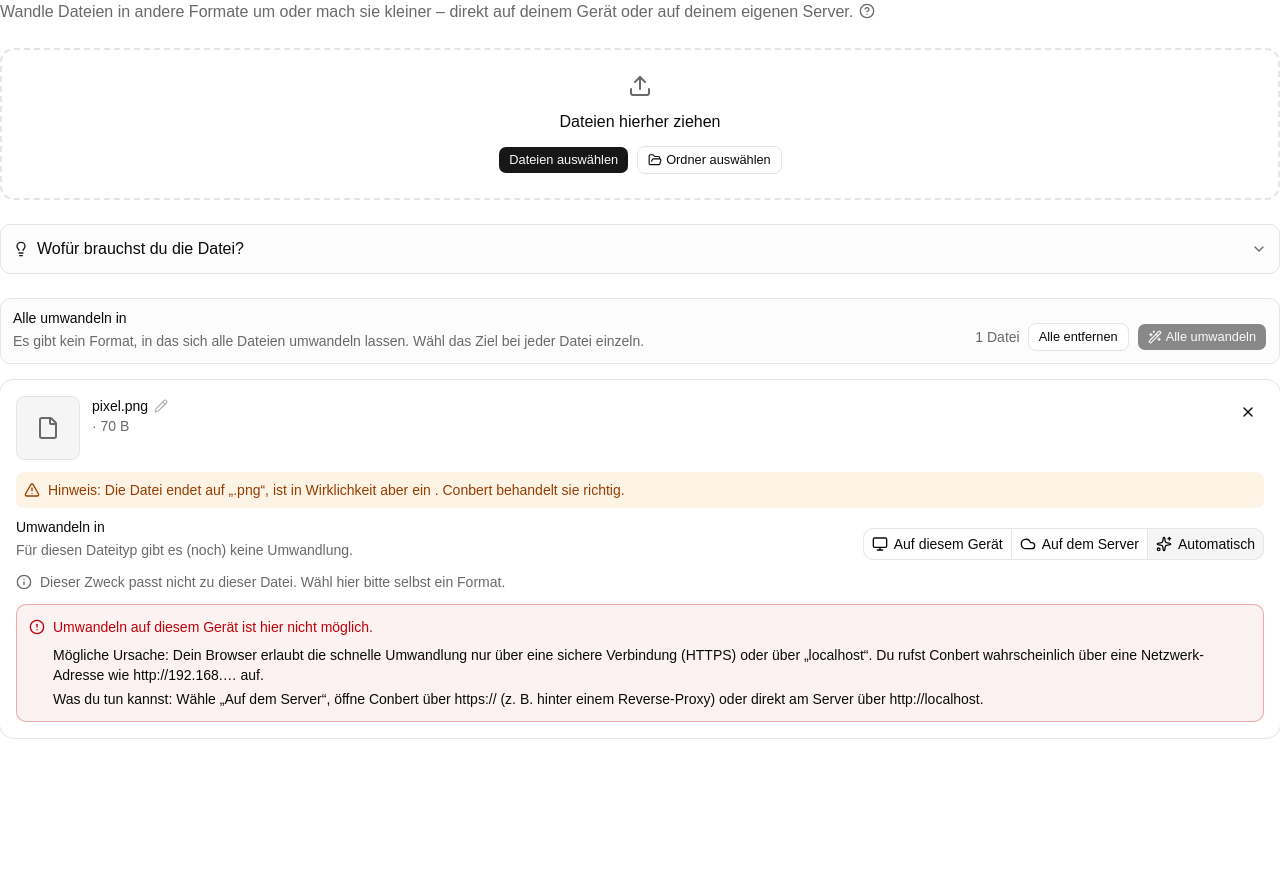
Test: purpose assistant – folded › starts folded, opens on click and shows a chosen purpose when folded
This screenshot has width=1280, height=888.
Check: the button "Für WhatsApp" is not shown
Click the button "Wofür brauchst du die Datei?": (140, 248) [13,237,1267,261]
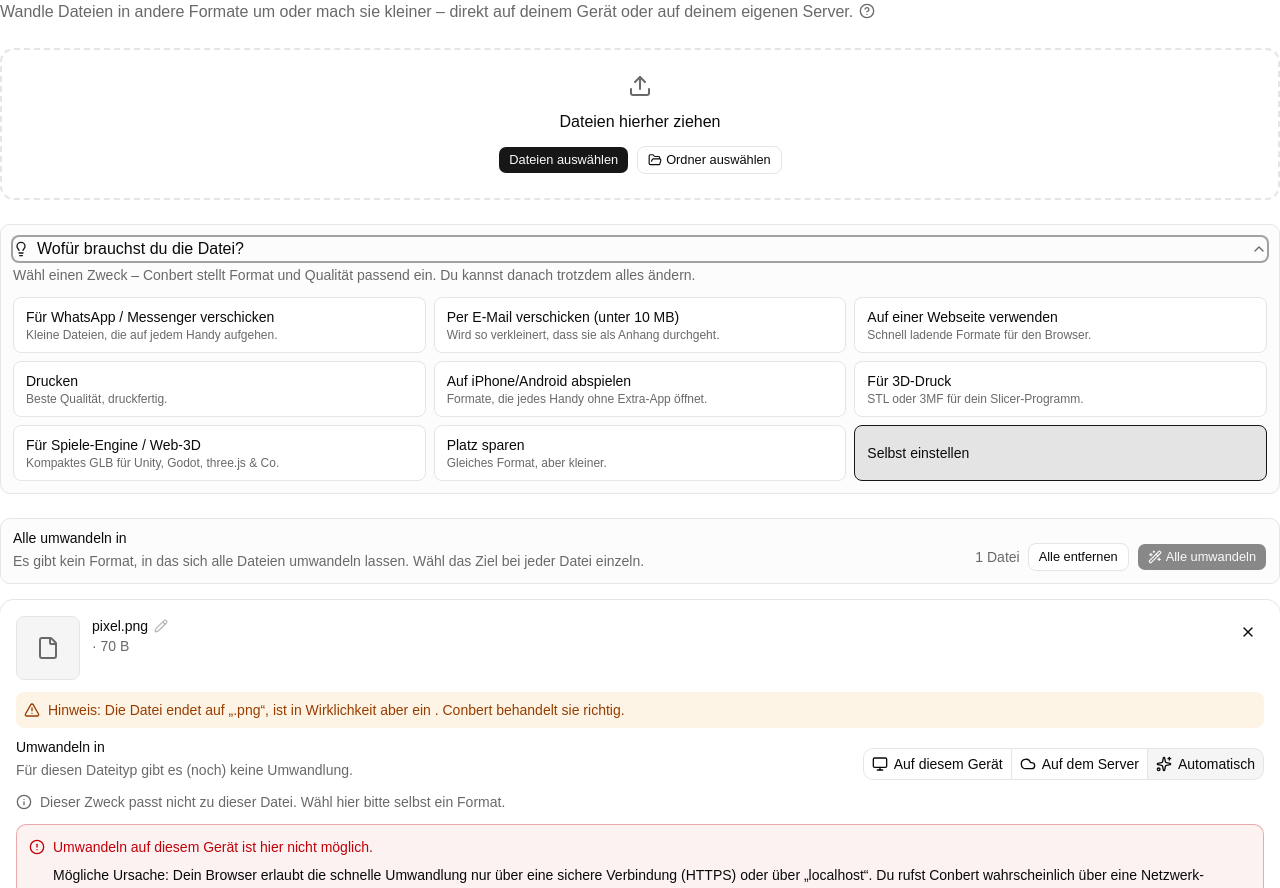
Click the button "Für WhatsApp": (219, 325) [13,297,426,353]
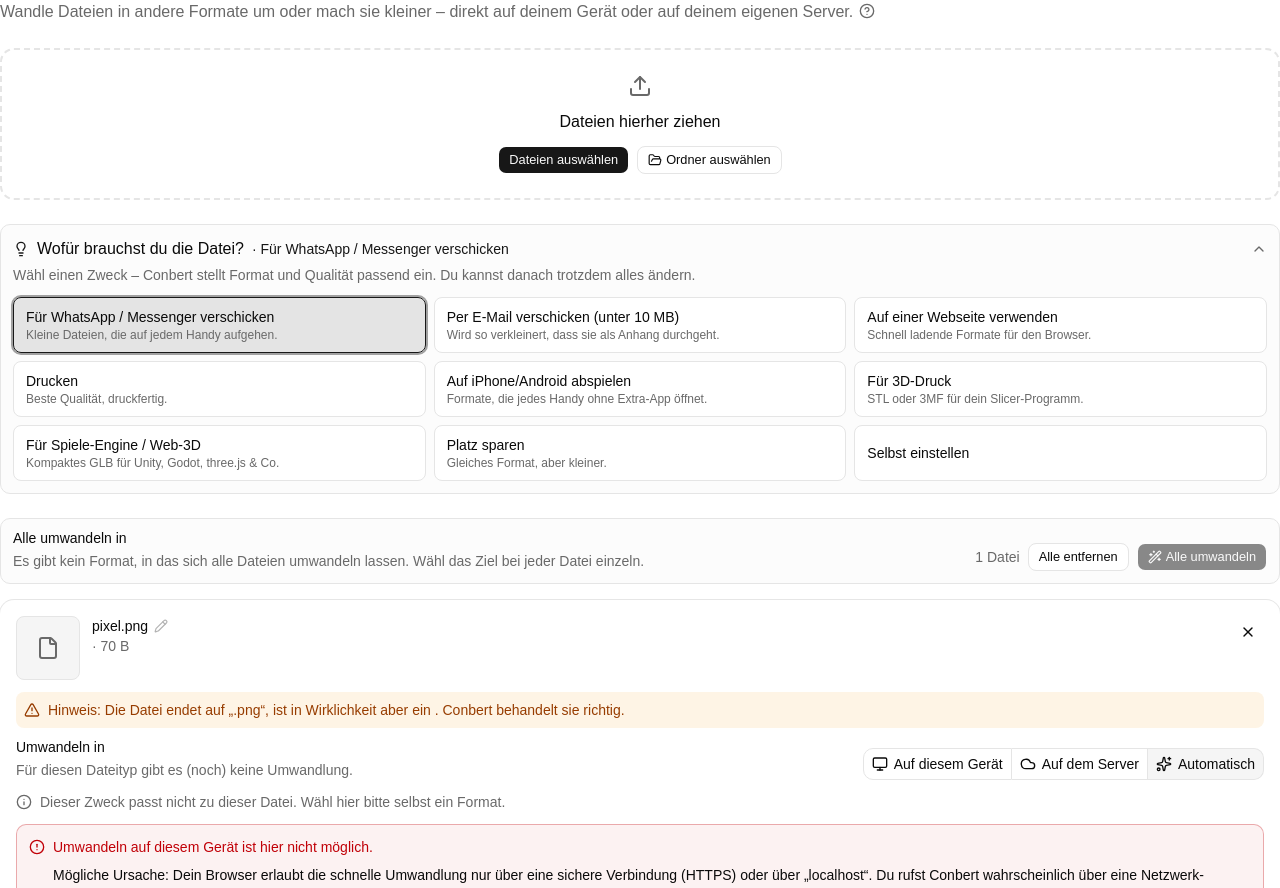
Click the button "Wofür brauchst du die Datei": (140, 248) [13,237,1267,261]
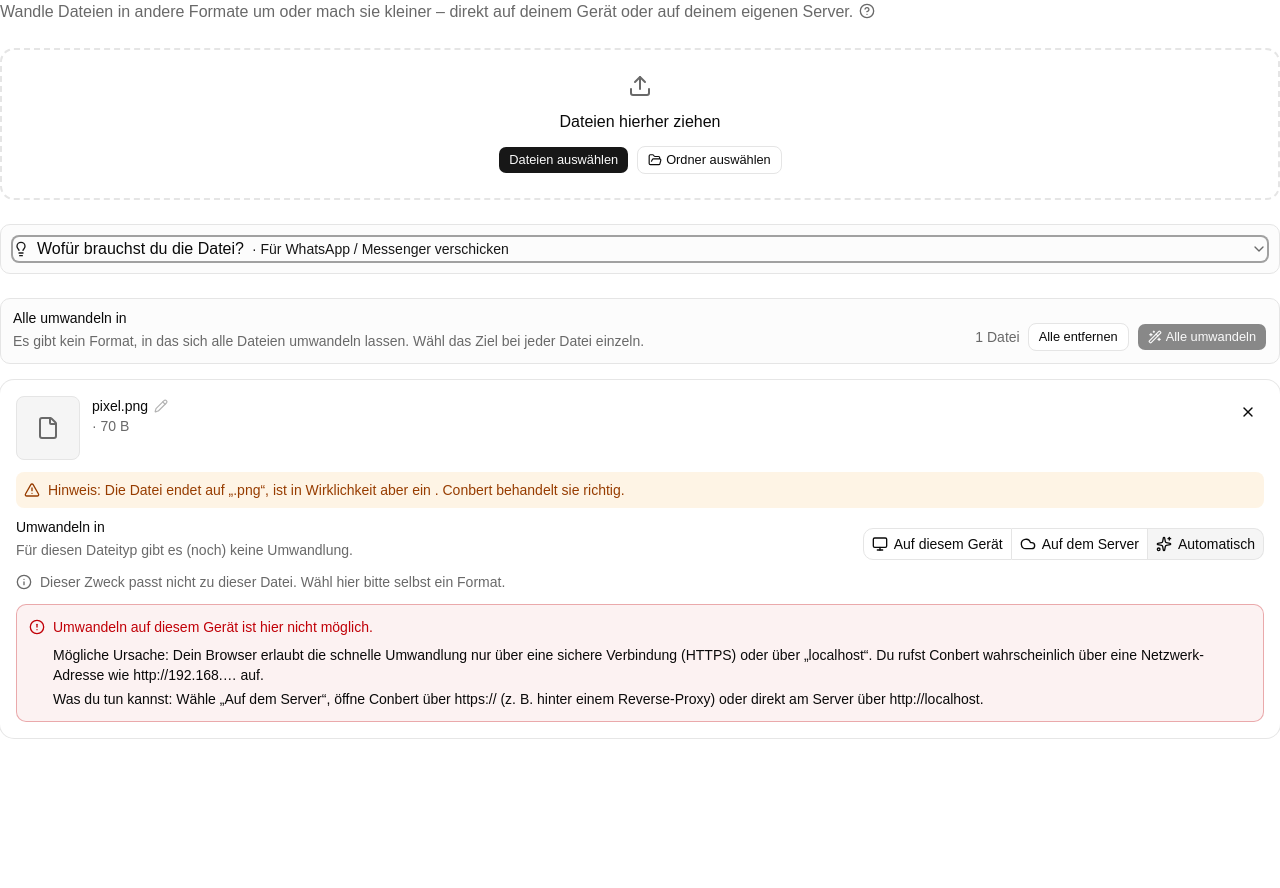
Check: the button "Wofür brauchst du die Datei" shows "WhatsApp", box [13,237,1267,261]
Check: the button "Wofür brauchst du die Datei" is collapsed, box [13,237,1267,261]
